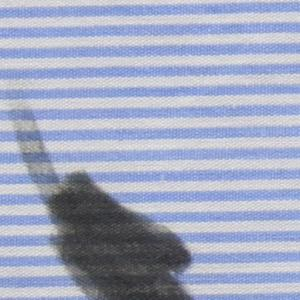Stain: (12, 106, 199, 300)
